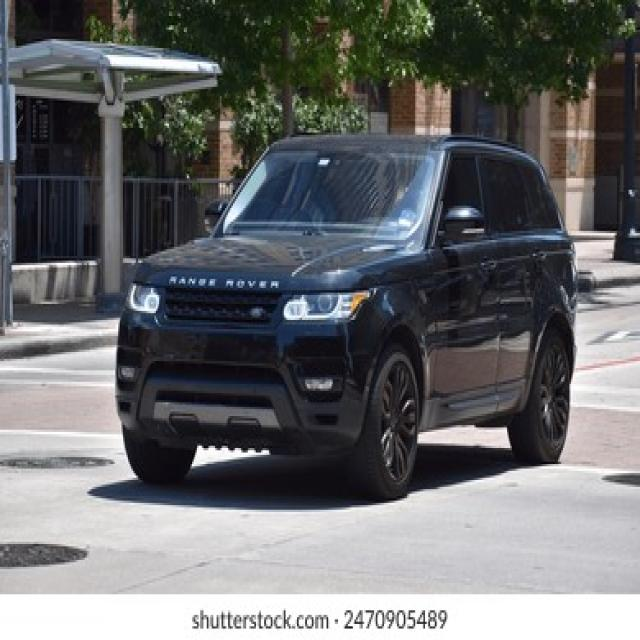rangerover: (167, 272, 282, 294)
